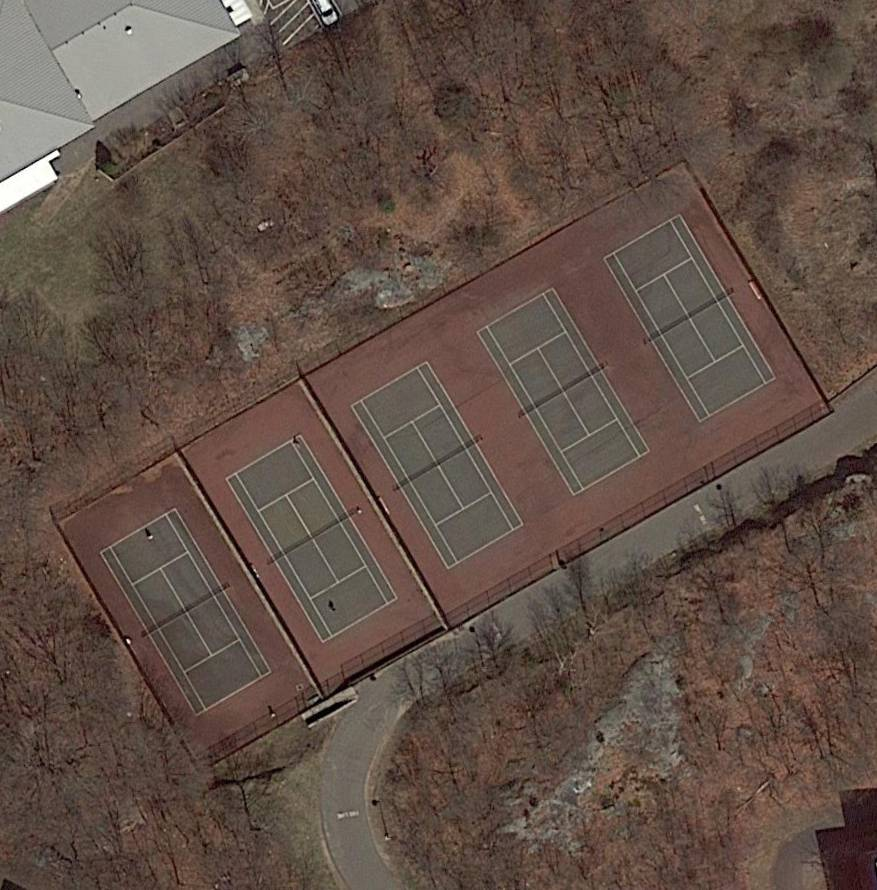tennis court: (475, 287, 653, 498), (225, 432, 400, 645), (603, 212, 777, 424), (351, 359, 525, 570), (100, 507, 274, 717)
